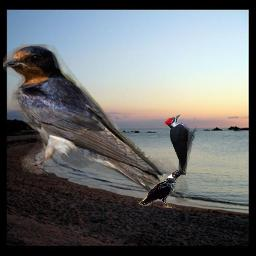Crow: (138, 169, 187, 208)
Swallow: (3, 44, 192, 207)
Woodpecker: (163, 114, 197, 175)
